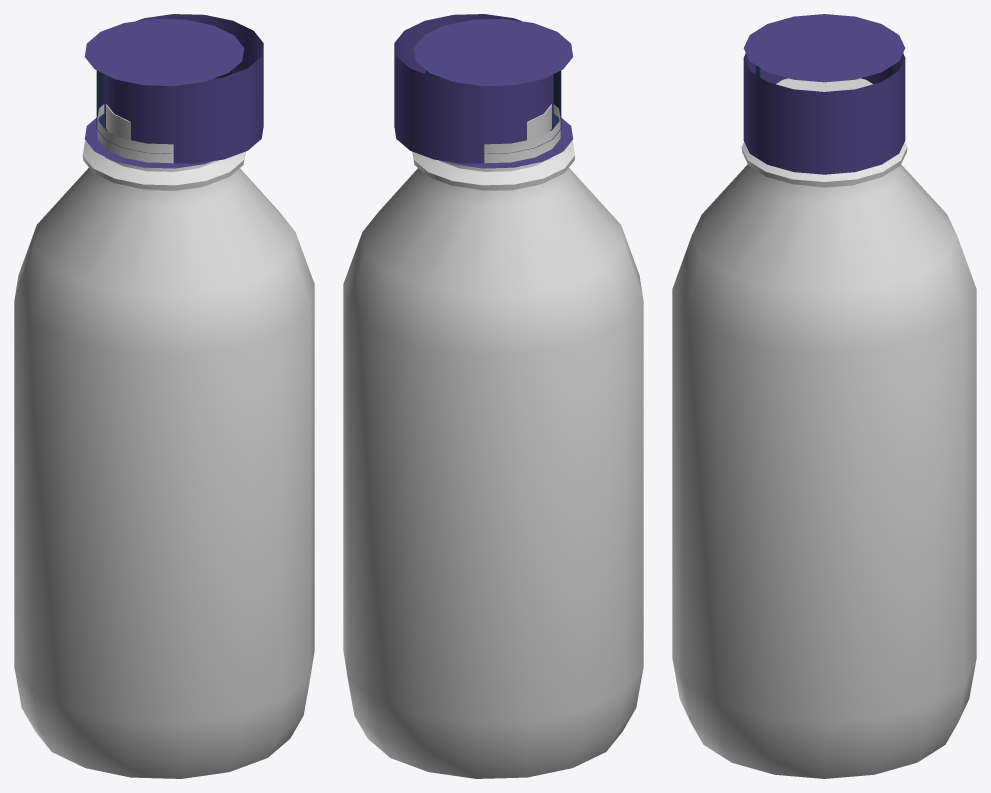
Rendered from bottle.gltf.
The picture shows the model from 3 angles, left to right: view 1: azimuth 30°, elevation 25°; view 2: azimuth 150°, elevation 25°; view 3: azimuth 270°, elevation 25°; orthographic projection.
Parts seen in each view (by area): view 1: Torus.001_clors_0.008; view 2: Torus.001_clors_0.008; view 3: Torus.001_clors_0.008.
Boxes of the visible parts, x1,y1,x2,y2 form: Torus.001_clors_0.008: [14, 14, 314, 778]; Torus.001_clors_0.008: [343, 14, 643, 778]; Torus.001_clors_0.008: [672, 14, 976, 778].
Size of the model in its own units: 0.3648 by 0.8936 by 0.3648.
2 materials, 2 textured.
